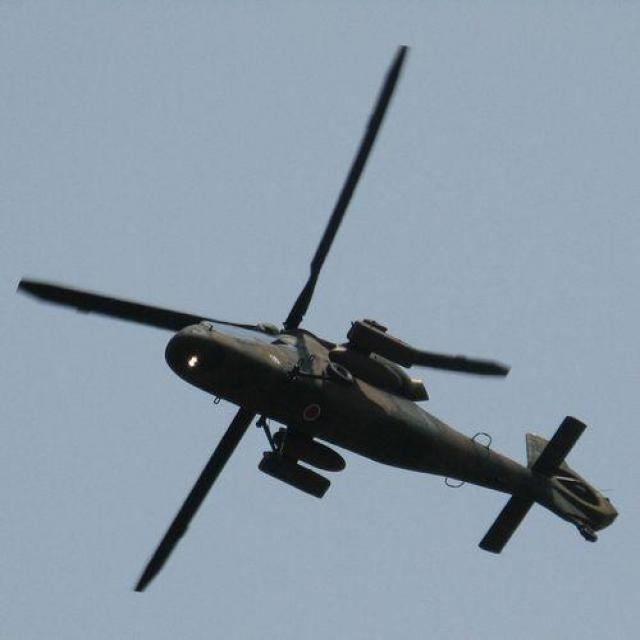MIL_HELO: (14, 39, 640, 603)
